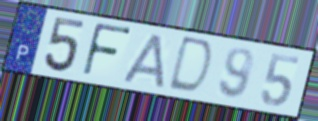5: (43, 16, 88, 74), (258, 52, 302, 108)
9: (217, 47, 256, 101)
A: (120, 32, 166, 91)
D: (164, 34, 216, 97)
F: (79, 21, 134, 80)
